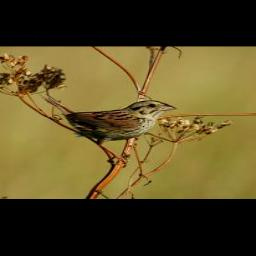Sparrow: (36, 93, 179, 168)
